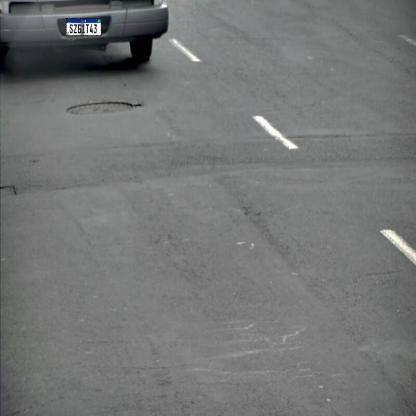PlacaM: (66, 18, 101, 36)
